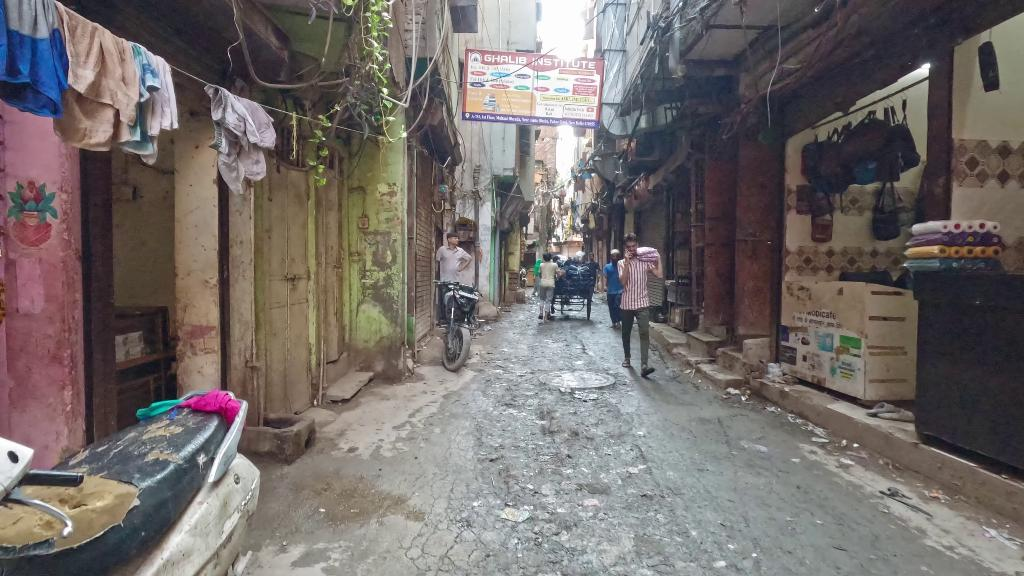garbage: (766, 362, 784, 383), (726, 386, 742, 396), (484, 324, 492, 332)
